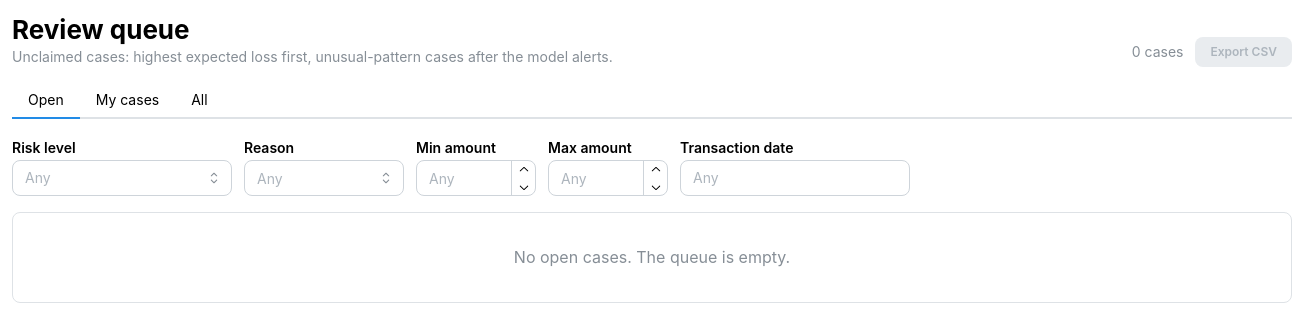
Test: QueuePage › "My cases" tab asks for my open cases and is kept in the URL
Click the tab "My cases" at (127, 101), box [80,83,175,119]
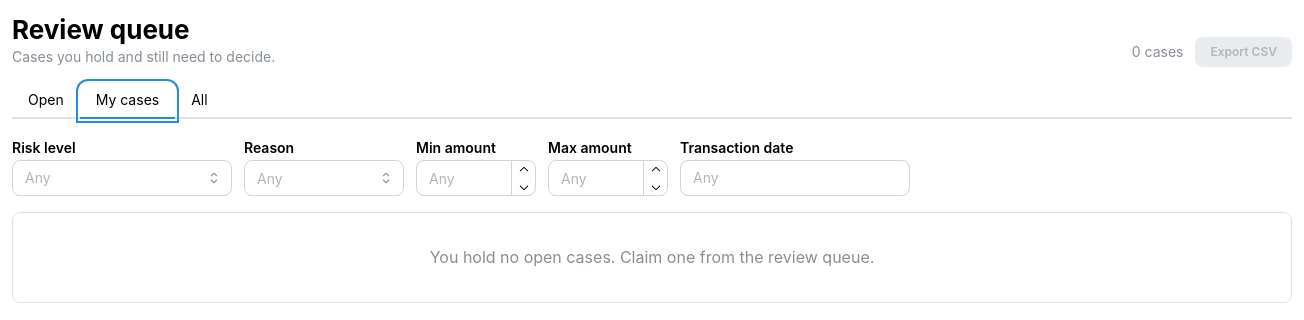
Now the text "You hold no open cases. Claim one from the review queue." is shown, box [430,247,874,267]
